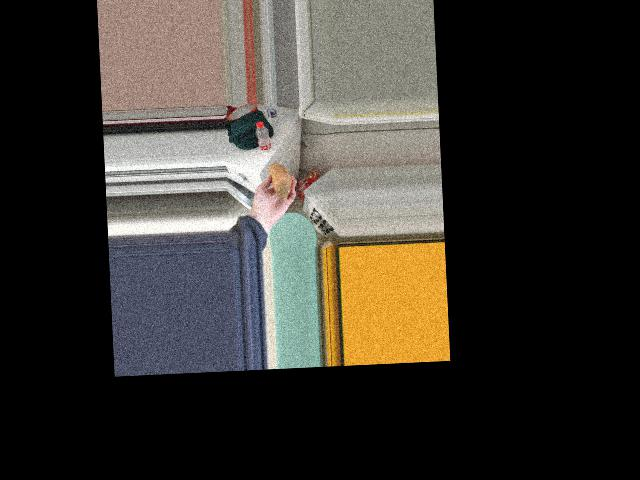sweet_potato: (271, 161, 290, 202)
